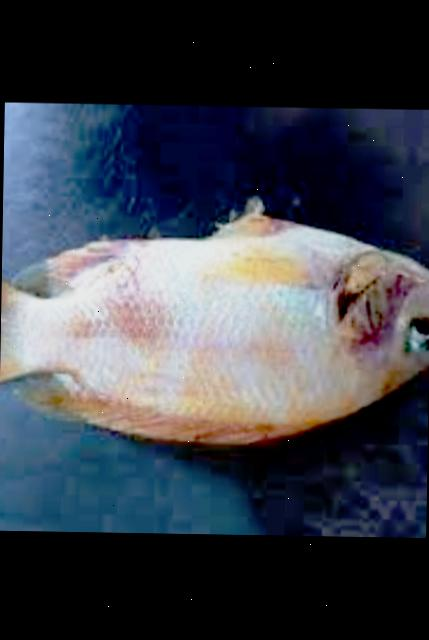Tilapia Lake Virus -TiLV-: (0, 214, 429, 443)
